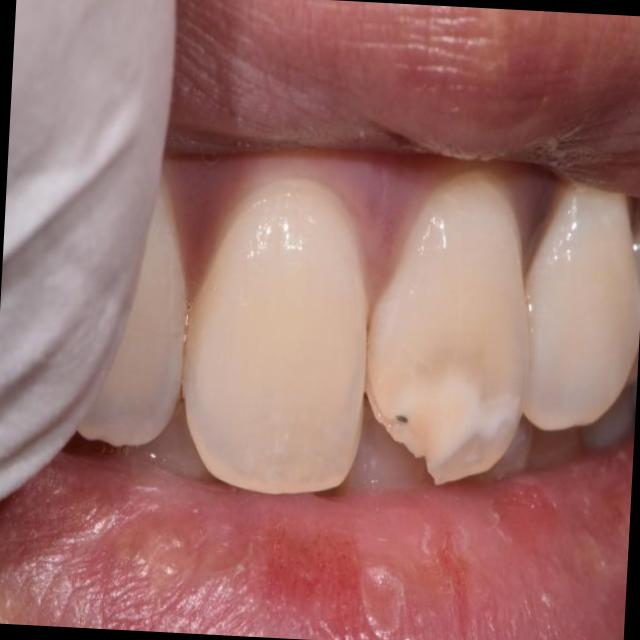Caries: (395, 415, 409, 424)
Tooth: (183, 178, 367, 494), (366, 175, 530, 485), (523, 182, 640, 431)
